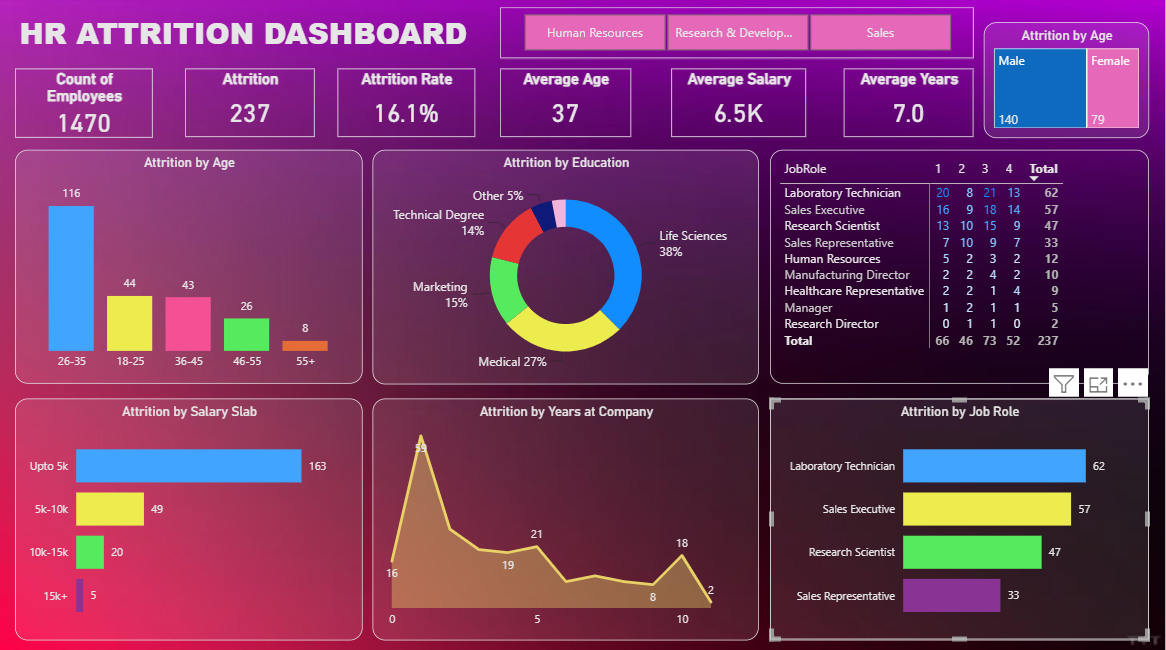

The page's visual inventory and layout, read from the dashboard file:
{"tool":"powerbi","page":{"name":"Page 1","canvas":[1280,720],"ordinal":0},"visuals":[{"type":"card","title":"Count of Employees","fields":{"Values":["CountNonNull(HR_Analytics.EmpID)"]},"box":[17.1,80,151.4,75.7],"z":0},{"type":"card","title":"Attrition","fields":{"Values":["Sum(HR_Analytics.AttritionCount)"]},"box":[203.1,79.6,142.7,75.5],"z":1000},{"type":"card","title":"Attrition Rate","fields":{"Values":["HR_Analytics.AttritionRate"]},"box":[370.5,79.6,150.9,75.5],"z":2000},{"type":"card","title":"Average Age","fields":{"Values":["Avg(HR_Analytics.Age)"]},"box":[548.9,79.6,144.1,75.5],"z":3000},{"type":"card","title":"Average Salary","fields":{"Values":["Avg(HR_Analytics.MonthlyIncome)"]},"box":[736.9,79.6,148.2,75.5],"z":4000},{"type":"card","title":"Average Years","fields":{"Values":["Avg(HR_Analytics.YearsAtCompany)"]},"box":[926.2,79.6,142.7,75.5],"z":5000},{"type":"donutChart","title":"Attrition by Education","fields":{"Category":["HR_Analytics.EducationField"],"Y":["Sum(HR_Analytics.AttritionCount)"]},"box":[408.9,168.8,424,258],"z":6000},{"type":"columnChart","title":"Attrition by Age","fields":{"Category":["HR_Analytics.AgeGroup"],"Y":["Sum(HR_Analytics.AttritionCount)"]},"box":[16.5,168.8,381.5,256.6],"z":7000},{"type":"pivotTable","fields":{"Rows":["HR_Analytics.JobRole"],"Columns":["HR_Analytics.JobSatisfaction"],"Values":["Sum(HR_Analytics.AttritionCount)"]},"box":[845.7,168.6,415.7,257.1],"z":8000},{"type":"barChart","title":"Attrition by Salary Slab","fields":{"Category":["HR_Analytics.SalarySlab"],"Y":["Sum(HR_Analytics.AttritionCount)"]},"box":[17.1,441.4,381.4,265.7],"z":9000},{"type":"barChart","title":"Attrition by Job Role","fields":{"Category":["HR_Analytics.JobRole"],"Y":["Sum(HR_Analytics.AttritionCount)"]},"box":[845.7,441.4,415.7,265.7],"z":10000},{"type":"areaChart","title":"Attrition by Years at Company","fields":{"Category":["HR_Analytics.YearsAtCompany"],"Y":["Sum(HR_Analytics.AttritionCount)"]},"box":[408.6,441.4,424.3,265.7],"z":11000},{"type":"treemap","title":"Attrition by Age","fields":{"Group":["HR_Analytics.Gender"],"Values":["Sum(HR_Analytics.AttritionCount)"]},"box":[1080,28.6,181.4,127.1],"z":12000},{"type":"slicer","fields":{"Values":["HR_Analytics.Department"]},"box":[548.6,12.9,520,55.7],"z":13000},{"type":"textbox","box":[17.1,12.9,531.4,67.1],"z":14000}]}

Visuals, with their boxes in screenshot pixels (x1, y1, x2, y2), scaled from the page's 1280x720 canvas onto the 1166x650 screenshot:
"Count of Employees" card: [left=16, top=72, right=153, bottom=141]
"Attrition" card: [left=185, top=72, right=315, bottom=140]
"Attrition Rate" card: [left=338, top=72, right=475, bottom=140]
"Average Age" card: [left=500, top=72, right=631, bottom=140]
"Average Salary" card: [left=671, top=72, right=806, bottom=140]
"Average Years" card: [left=844, top=72, right=974, bottom=140]
"Attrition by Education" donutChart: [left=372, top=152, right=759, bottom=385]
"Attrition by Age" columnChart: [left=15, top=152, right=363, bottom=384]
pivotTable - HR_Analytics.JobRole x HR_Analytics.JobSatisfaction: [left=770, top=152, right=1149, bottom=384]
"Attrition by Salary Slab" barChart: [left=16, top=398, right=363, bottom=638]
"Attrition by Job Role" barChart: [left=770, top=398, right=1149, bottom=638]
"Attrition by Years at Company" areaChart: [left=372, top=398, right=759, bottom=638]
"Attrition by Age" treemap: [left=984, top=26, right=1149, bottom=141]
slicer - HR_Analytics.Department: [left=500, top=12, right=973, bottom=62]
textbox: [left=16, top=12, right=500, bottom=72]
